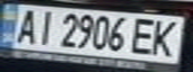0: (90, 12, 112, 52)
2: (54, 10, 78, 48)
6: (106, 14, 133, 53)
9: (72, 11, 96, 50)
A: (9, 6, 42, 44)
E: (127, 15, 163, 56)
I: (30, 7, 57, 46)
K: (145, 17, 184, 57)
